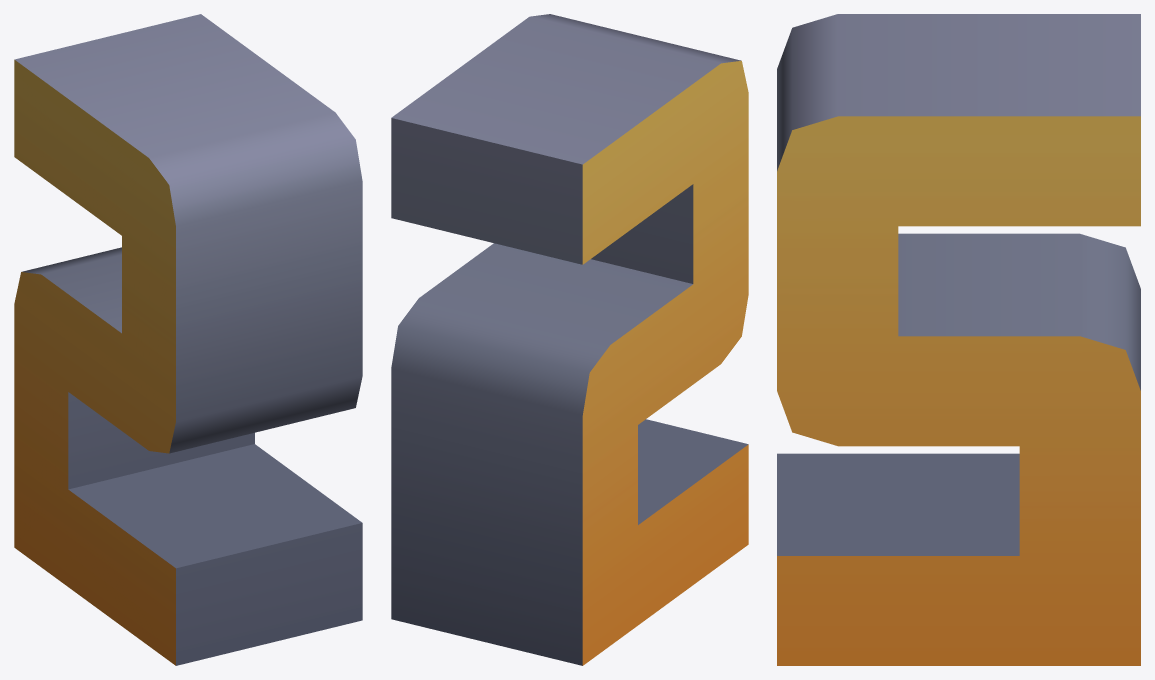
Rendered from kenney-prototype-number-2.glb.
3 views of the same model, side by side, from view 1: azimuth 30°, elevation 25°; view 2: azimuth 150°, elevation 25°; view 3: azimuth 270°, elevation 25° (orthographic). The views are drawn at different scales.
Parts seen in each view (by area): view 1: number-2; view 2: number-2; view 3: number-2.
Boxes of the visible parts, x1,y1,x2,y2 form: number-2: (14, 14, 362, 665); number-2: (391, 14, 748, 665); number-2: (777, 14, 1140, 665).
Bounding box in the file's own units: 0.2 × 0.5 × 0.3.
1 material, 1 textured.
